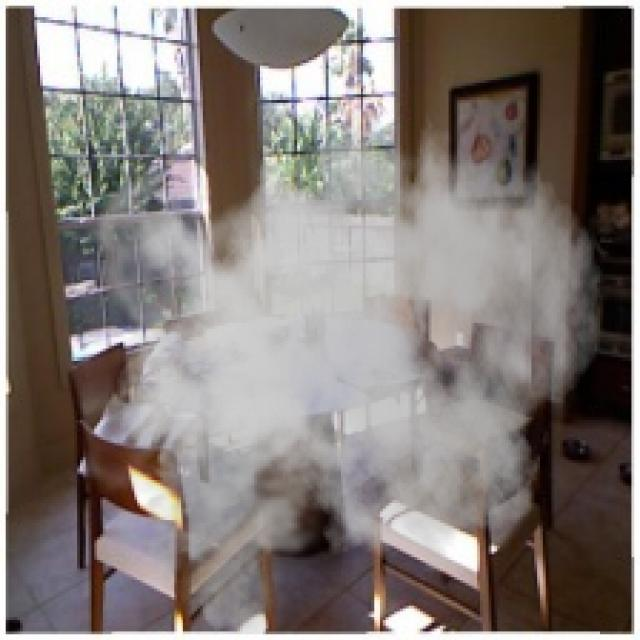smoke: (83, 71, 603, 634)
